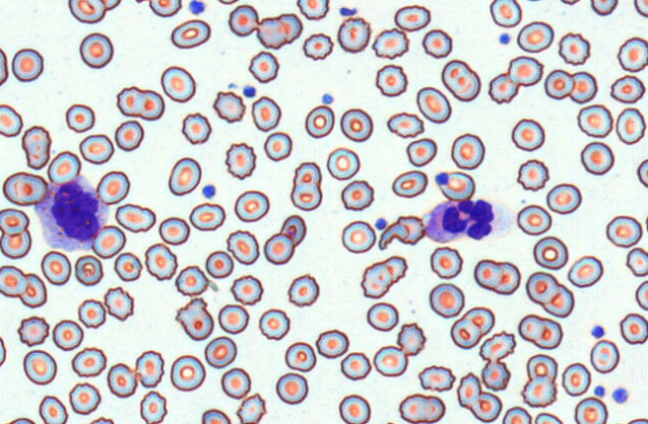GRAN: (419, 200, 512, 244)
MONO: (36, 175, 112, 251)
PLT: (610, 387, 632, 405), (241, 83, 260, 100), (188, 0, 206, 17), (201, 184, 218, 201), (590, 383, 607, 400), (318, 90, 336, 106), (590, 323, 606, 341), (433, 171, 451, 186), (496, 30, 512, 45)
RBC: (525, 271, 574, 318), (360, 255, 407, 298), (450, 306, 495, 349), (473, 258, 520, 295), (256, 12, 302, 49), (116, 85, 164, 120), (441, 59, 481, 101), (517, 313, 562, 349), (290, 161, 322, 211), (2, 171, 47, 206), (398, 393, 445, 423), (160, 65, 196, 102), (21, 125, 51, 169), (428, 282, 464, 318), (416, 86, 451, 123), (170, 354, 205, 391), (168, 156, 201, 195), (115, 202, 156, 233), (22, 349, 57, 385), (577, 103, 613, 138), (337, 16, 371, 53), (450, 132, 484, 169), (144, 242, 177, 280), (435, 170, 475, 201), (532, 235, 568, 269), (79, 32, 113, 68), (517, 20, 554, 53), (605, 215, 642, 248), (478, 330, 516, 362), (371, 27, 409, 59), (170, 18, 210, 48), (47, 150, 81, 185), (95, 170, 130, 204), (224, 142, 256, 179), (91, 224, 125, 258), (326, 146, 360, 180), (580, 141, 614, 175), (341, 220, 376, 253), (234, 189, 269, 222), (340, 107, 373, 142), (226, 229, 259, 264), (521, 375, 557, 407), (567, 255, 603, 287), (615, 107, 646, 144), (134, 350, 164, 388), (429, 246, 463, 279), (511, 118, 545, 151), (174, 264, 209, 296), (11, 47, 43, 82), (546, 182, 581, 214), (507, 55, 543, 86), (106, 362, 137, 398), (516, 158, 549, 191), (68, 382, 101, 415), (204, 335, 237, 368), (103, 286, 134, 321), (79, 133, 114, 164), (40, 250, 71, 285), (516, 204, 551, 235), (71, 346, 106, 377), (251, 95, 281, 131), (617, 36, 647, 72), (417, 364, 455, 392), (275, 372, 308, 404), (212, 90, 245, 122), (558, 32, 590, 65), (287, 273, 319, 306), (375, 64, 407, 97), (373, 345, 407, 376), (340, 179, 374, 210), (391, 169, 427, 198), (609, 74, 645, 103), (189, 202, 225, 231), (386, 111, 424, 138), (258, 308, 290, 340), (469, 391, 502, 422), (248, 50, 279, 83), (230, 274, 263, 305), (396, 322, 426, 356), (304, 104, 334, 138), (561, 362, 591, 396), (589, 339, 619, 373), (19, 272, 47, 308), (263, 232, 294, 264), (228, 4, 259, 36), (17, 315, 49, 346), (217, 303, 249, 334), (220, 367, 251, 399), (315, 329, 349, 358), (394, 4, 430, 31), (52, 319, 83, 350), (235, 392, 266, 423), (284, 341, 316, 371), (488, 72, 518, 104), (114, 119, 144, 151), (181, 112, 211, 144), (366, 301, 398, 331), (0, 229, 31, 259), (406, 137, 437, 167), (421, 28, 452, 58), (74, 254, 103, 286), (158, 216, 190, 245), (338, 394, 370, 423), (569, 70, 597, 103), (139, 390, 167, 423), (574, 396, 608, 423), (456, 372, 481, 408), (544, 69, 574, 99), (481, 360, 510, 391), (340, 351, 371, 380), (619, 312, 647, 344), (0, 264, 27, 297), (489, 0, 522, 27), (68, 0, 106, 23), (77, 298, 106, 328), (263, 131, 292, 161), (65, 103, 95, 132), (113, 251, 142, 281), (302, 32, 333, 60), (279, 214, 306, 246), (38, 395, 68, 423), (205, 250, 233, 278), (0, 207, 29, 234), (0, 103, 23, 137), (296, 0, 329, 20), (626, 247, 647, 276), (148, 0, 181, 17), (501, 406, 531, 423), (201, 408, 231, 423), (590, 0, 618, 15), (635, 280, 647, 310), (636, 158, 648, 187), (534, 412, 563, 423), (0, 47, 8, 86), (633, 0, 648, 17), (100, 0, 121, 10), (89, 416, 114, 424), (0, 335, 6, 367), (6, 417, 35, 423), (626, 417, 647, 423), (216, 0, 239, 5), (559, 0, 581, 5), (375, 420, 400, 424), (645, 211, 648, 234), (133, 0, 150, 3), (524, 0, 545, 1)
Schistocyte: (173, 298, 216, 343), (377, 220, 410, 252)
